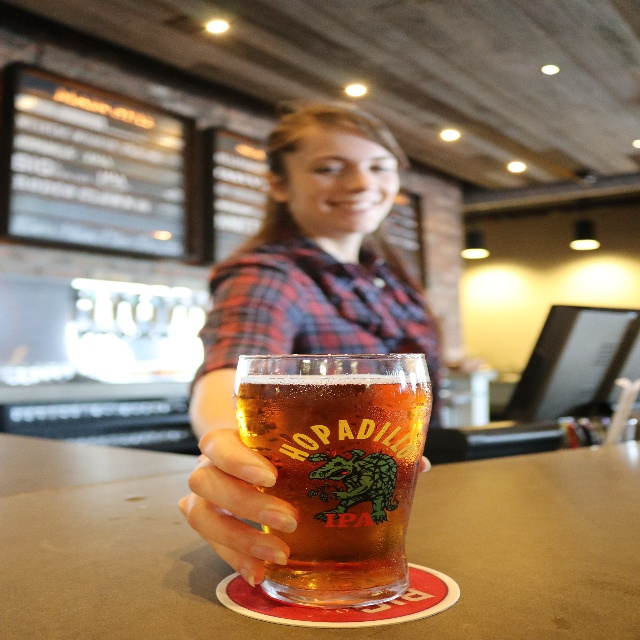Sin_guantes: (177, 425, 300, 585)
